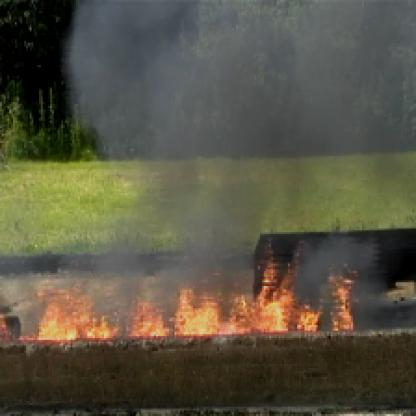Fire: (2, 258, 368, 349)
Smoke: (69, 2, 414, 265)
